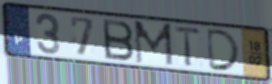3: (34, 12, 61, 56)
7: (69, 15, 96, 58)
B: (100, 17, 136, 63)
D: (206, 27, 243, 73)
M: (133, 20, 175, 68)
T: (173, 25, 203, 69)
